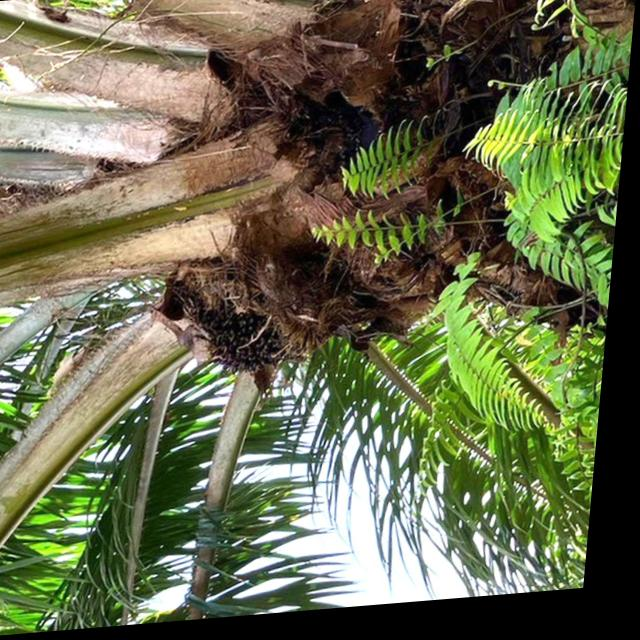unripe: (188, 276, 318, 392)
